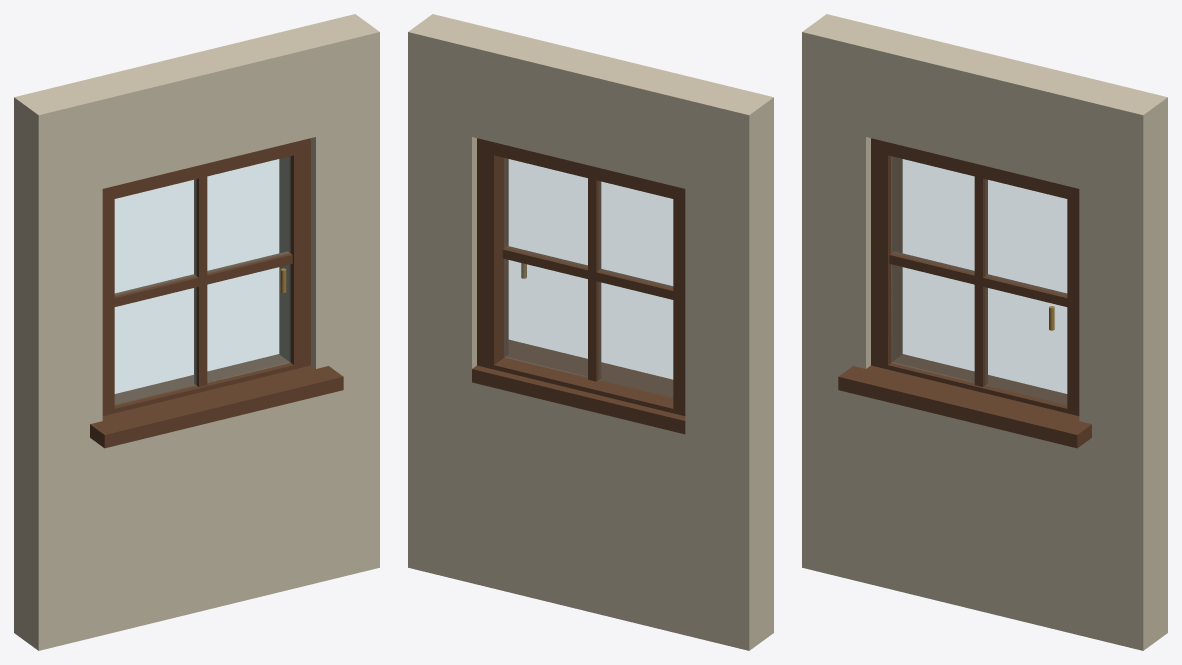
The model's file is framed-window-lod1.glb.
The picture shows the model from 3 angles, left to right: view 1: azimuth 30°, elevation 25°; view 2: azimuth 150°, elevation 25°; view 3: azimuth 330°, elevation 25°; orthographic projection.
Parts seen in each view (by area): view 1: wall-below, wall-above, wall-side (×2), sash-glass, frame-jamb (×2), sill, frame-rail (×2), sash-mullion, sash-transom; view 2: wall-below, wall-above, wall-side (×2), sash-glass, frame-jamb (×2), sill, frame-rail (×2), sash-mullion, sash-transom; view 3: wall-below, wall-above, wall-side (×2), sash-glass, frame-jamb (×2), sill, frame-rail (×2), sash-mullion, sash-transom.
Part boxes in pixels (<box>): wall-below: <box>14,367,379,650</box>; wall-above: <box>14,14,379,204</box>; wall-side (×2): <box>14,121,379,449</box>; sash-glass: <box>115,157,290,404</box>; frame-jamb (×2): <box>102,138,310,415</box>; sill: <box>90,354,343,448</box>; frame-rail (×2): <box>105,138,310,413</box>; sash-mullion: <box>194,176,207,386</box>; sash-transom: <box>114,251,292,306</box>; wall-below: <box>408,367,773,650</box>; wall-above: <box>408,14,773,204</box>; wall-side (×2): <box>408,121,773,449</box>; sash-glass: <box>504,158,672,397</box>; frame-jamb (×2): <box>477,138,685,415</box>; sill: <box>472,339,685,434</box>; frame-rail (×2): <box>477,140,684,413</box>; sash-mullion: <box>588,178,601,381</box>; sash-transom: <box>502,246,673,299</box>; wall-below: <box>802,367,1167,650</box>; wall-above: <box>802,14,1167,204</box>; wall-side (×2): <box>802,121,1167,449</box>; sash-glass: <box>891,156,1066,404</box>; frame-jamb (×2): <box>871,138,1079,415</box>; sill: <box>838,354,1091,448</box>; frame-rail (×2): <box>871,138,1068,413</box>; sash-mullion: <box>974,176,987,386</box>; sash-transom: <box>889,251,1067,306</box>.
Size of the model in its own units: 1.6 by 2.4 by 0.32.
